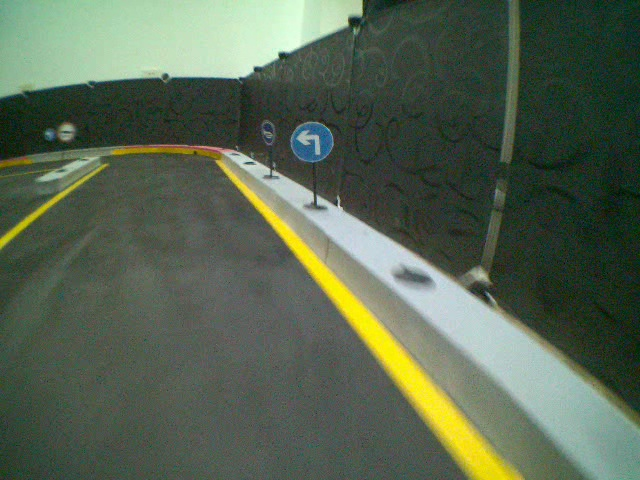Check: (56, 119, 77, 144)
crossing: (290, 119, 335, 167)
horn: (259, 118, 277, 145)
